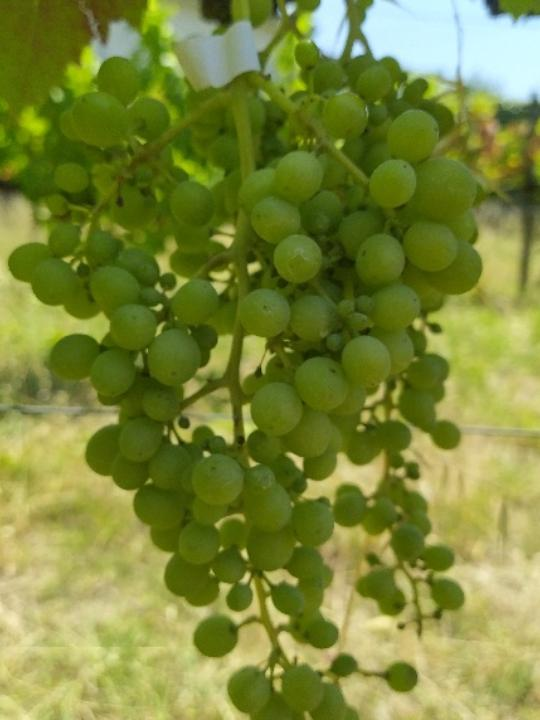grape: (3, 44, 487, 720)
